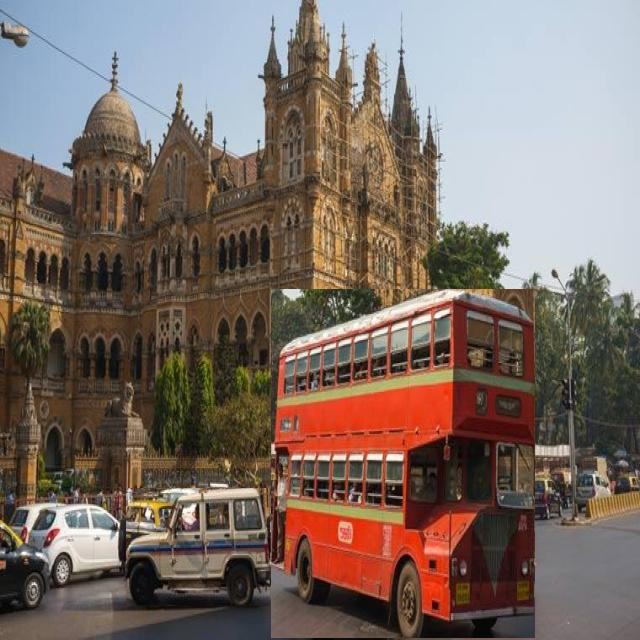bus: (271, 289, 535, 638)
car: (126, 489, 270, 606), (30, 504, 119, 584)
